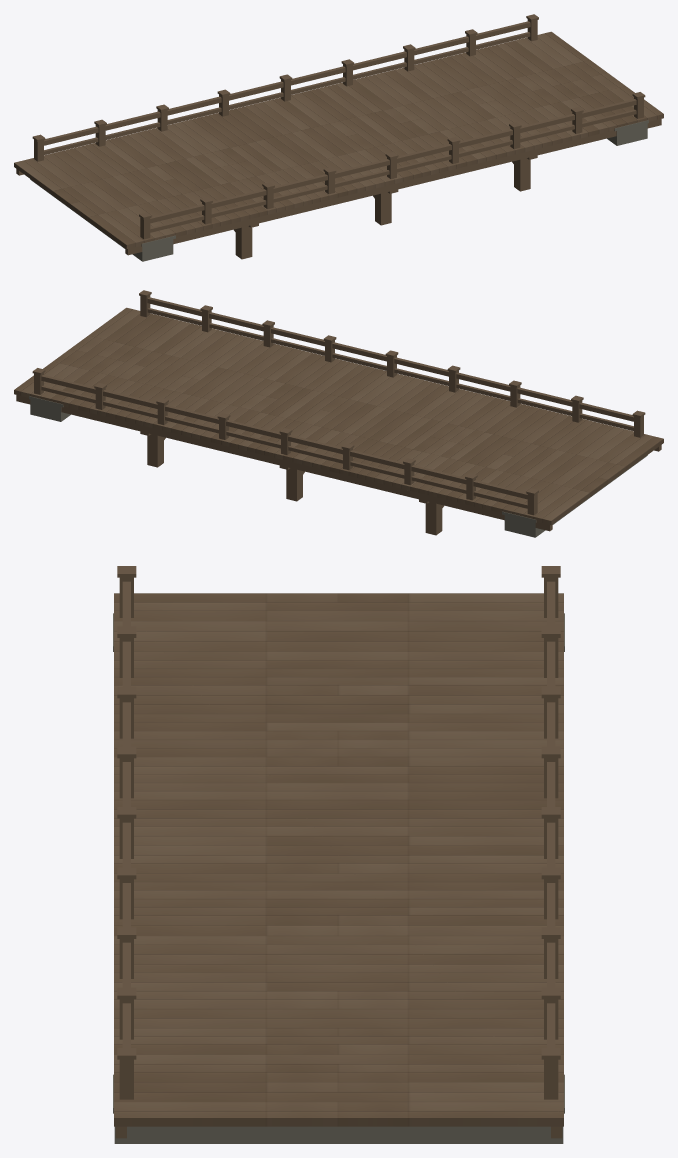
Rendered from marches_north_timber_bridge_sector.glb.
3 views of the same model, one above another, from view 1: azimuth 30°, elevation 25°; view 2: azimuth 150°, elevation 25°; view 3: azimuth 270°, elevation 25° (orthographic). The views are drawn at different scales.
Parts seen in each view (by area): view 1: SectorDeck, SectorRailTimber, SectorStoneSeats; view 2: SectorDeck, SectorRailTimber, SectorStoneSeats; view 3: SectorDeck, SectorRailTimber, SectorStoneSeats.
Boxes of the visible parts, box(x1,y1,x2,y2) form: SectorDeck: box(14, 31, 663, 249); SectorRailTimber: box(16, 14, 661, 259); SectorStoneSeats: box(30, 120, 648, 261); SectorDeck: box(14, 307, 663, 525); SectorRailTimber: box(16, 290, 661, 535); SectorStoneSeats: box(29, 396, 647, 537); SectorDeck: box(114, 593, 563, 1126); SectorRailTimber: box(115, 566, 562, 1138); SectorStoneSeats: box(113, 613, 564, 1143).
Size of the model in its own units: 28.96 by 3.79 by 10.55.
Materials: 3 (1 with a texture image).
